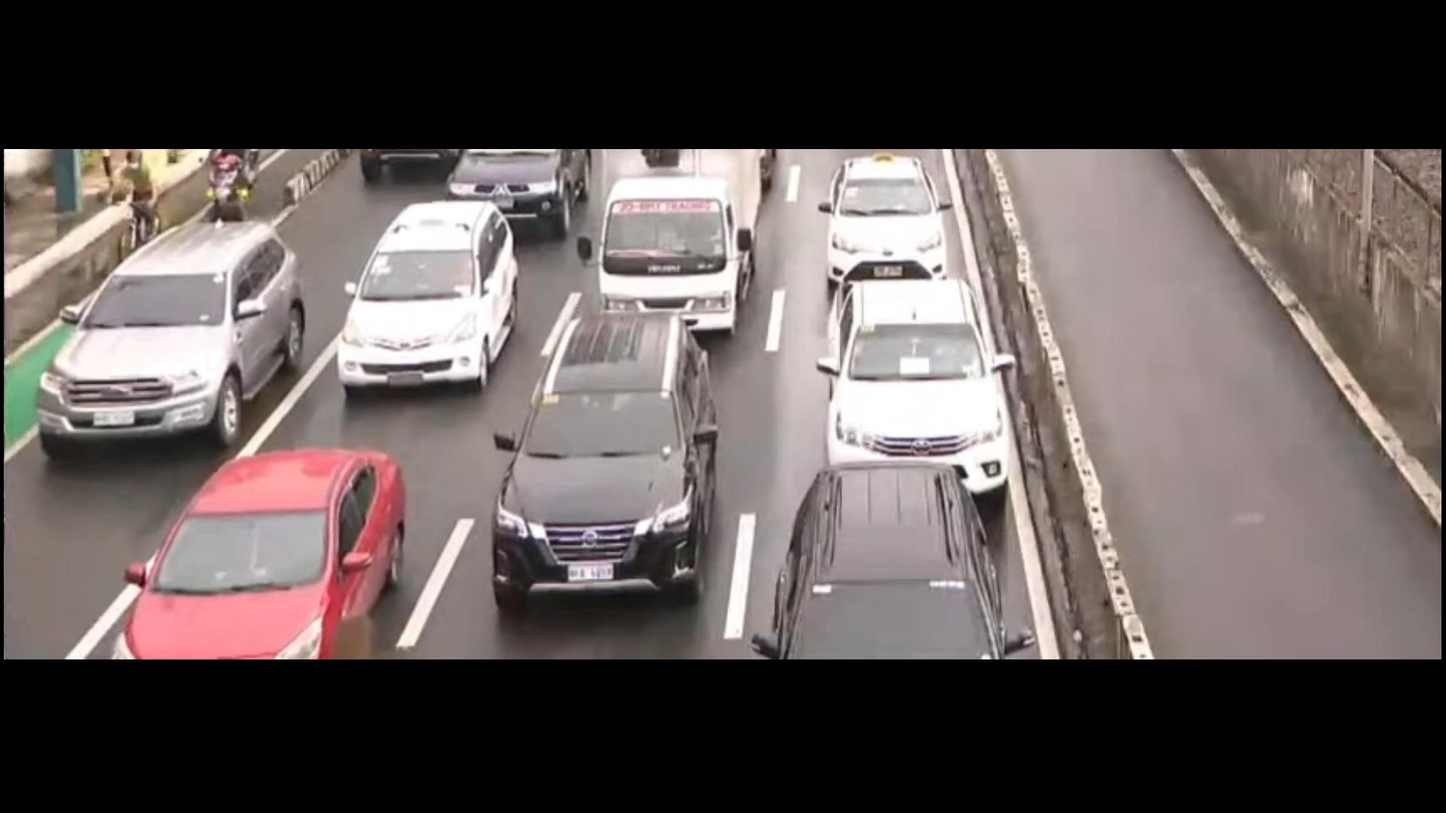Bicycle: (100, 160, 179, 264)
Motorcycle: (203, 138, 268, 215)
SUV: (481, 307, 742, 607), (28, 202, 305, 474), (757, 443, 1049, 658), (286, 179, 537, 413), (807, 262, 1021, 509), (438, 149, 593, 237)
Sedan: (96, 435, 437, 660), (811, 140, 970, 297)
Truck: (584, 138, 789, 324)
